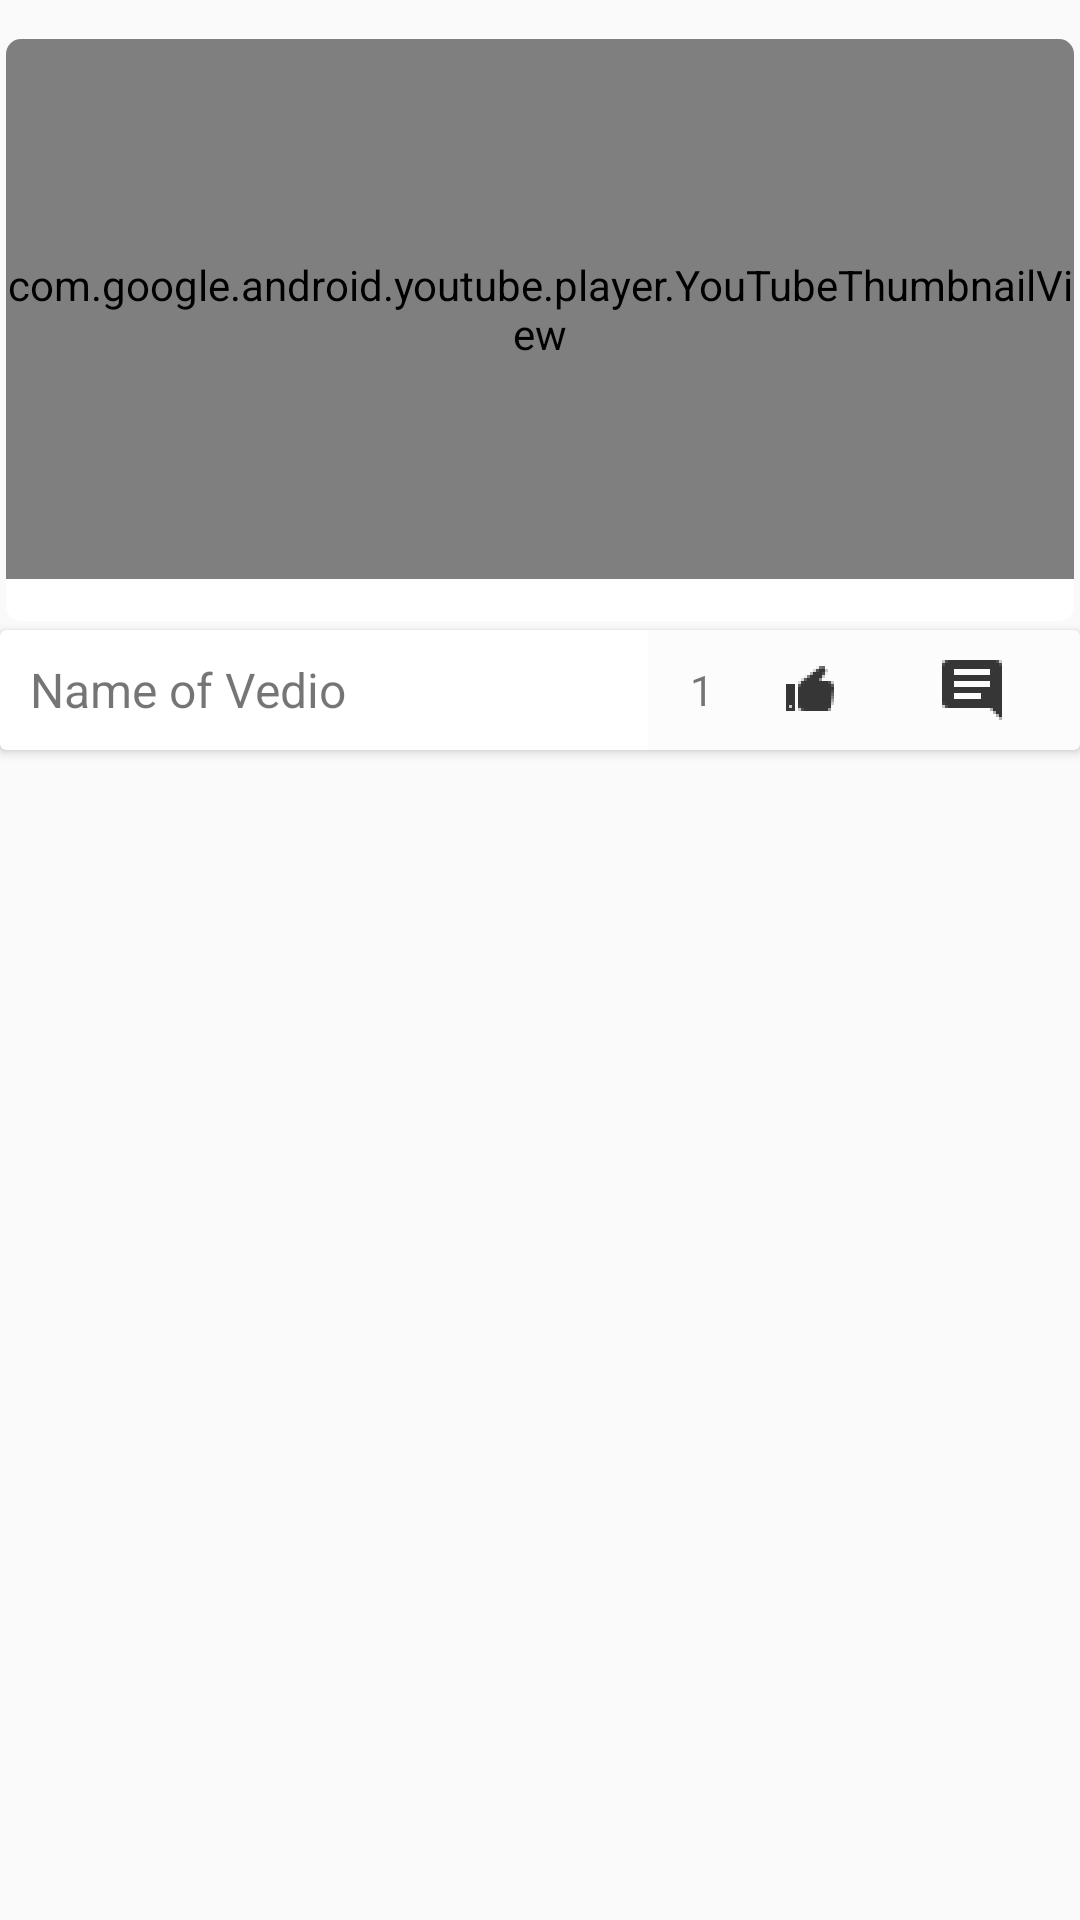

Icon click points for this 1080*1920 phone screenshot, format point (x, y):
comment: point (972, 690)
like: point (810, 688)
